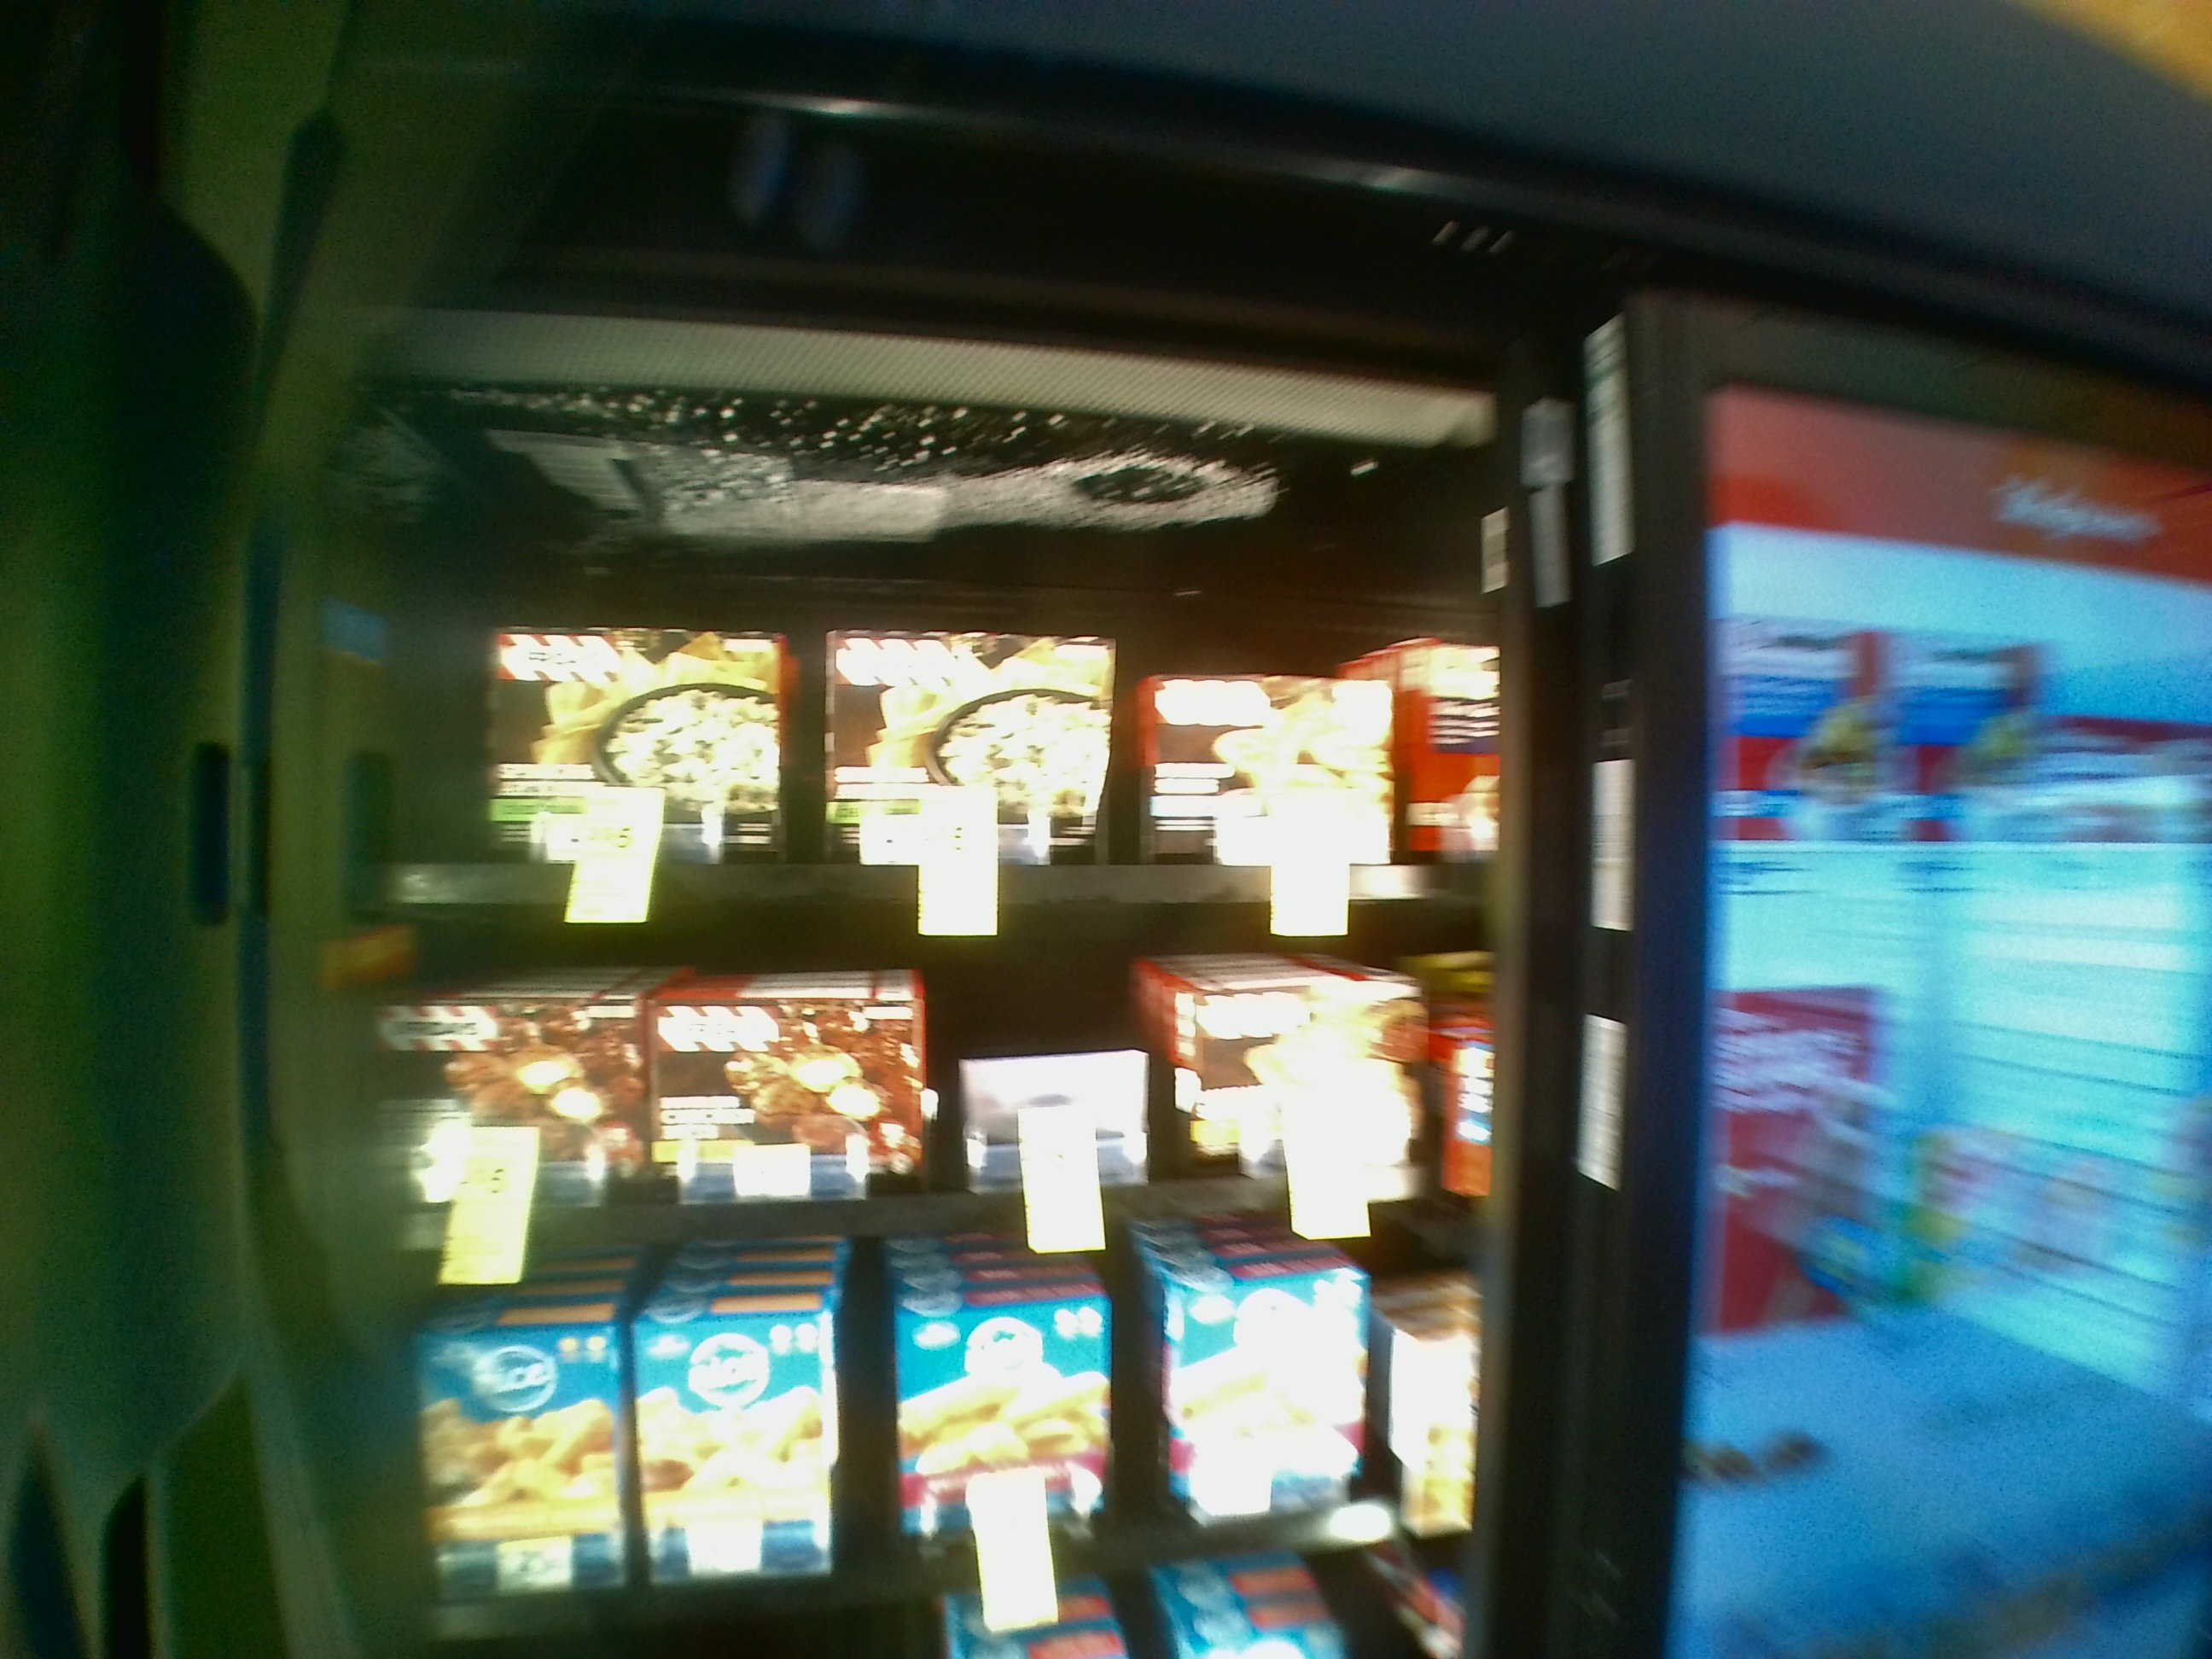shelf: (340, 450, 1489, 904), (347, 918, 1489, 1263)
